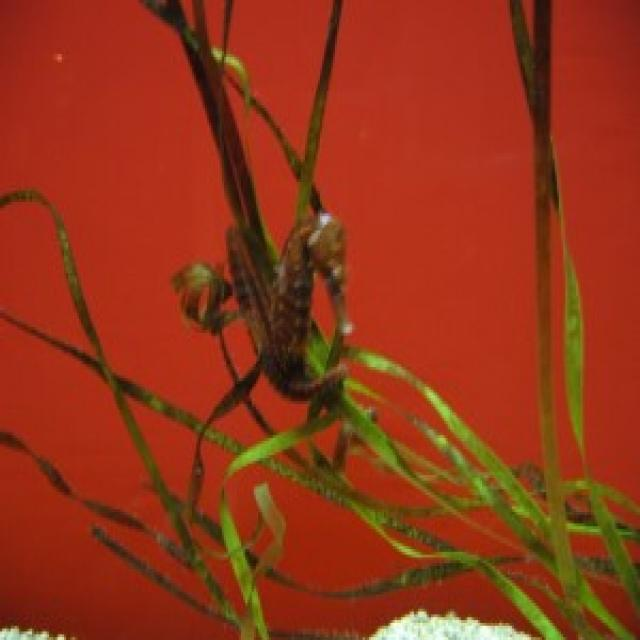Seahorse: (220, 209, 362, 421)
